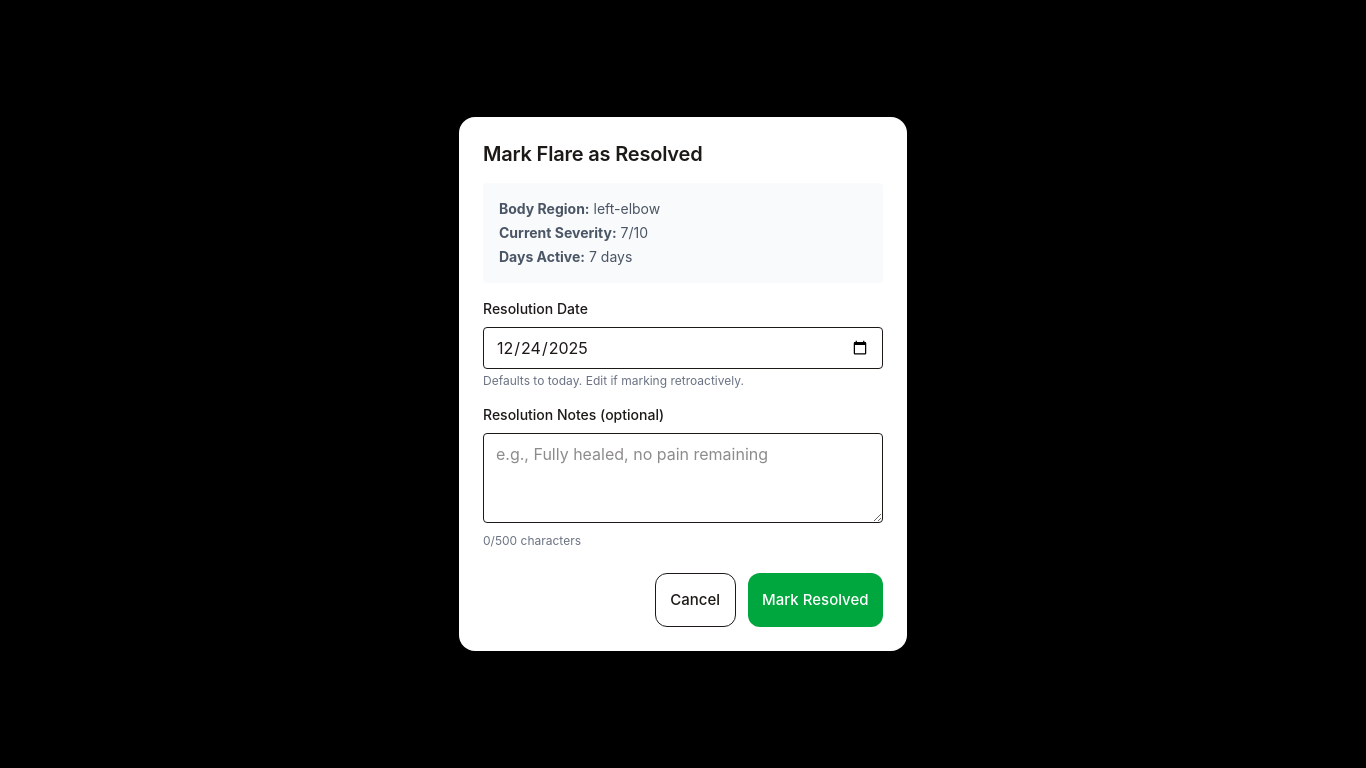
Scenario: FlareResolveModal › Resolution Notes › displays character counter correctly
Expected: the text "0/500 characters" is shown, [483,533,581,548]
Type "Test note" into the text box labelled "Resolution Notes" at [683, 478], box [483,433,883,523]
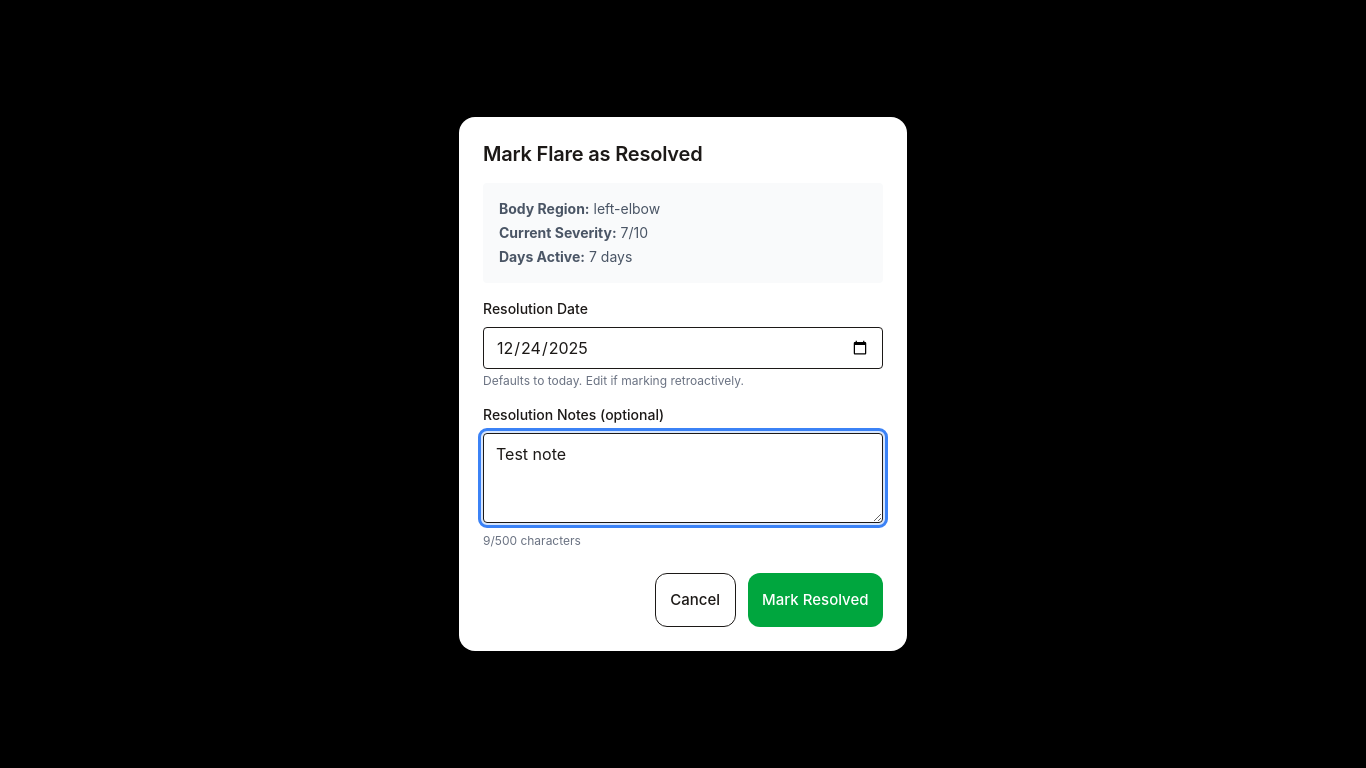
Expected: the text "9/500 characters" is shown, [483,533,581,548]
